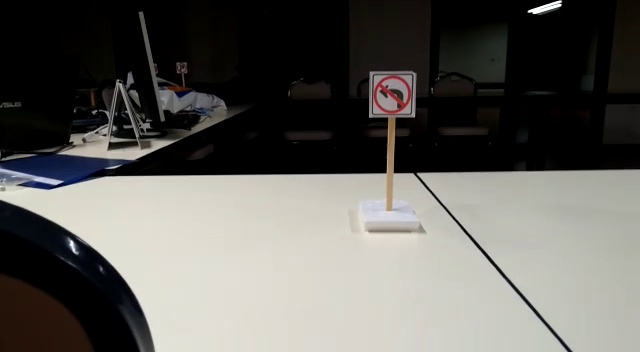sola_donulmez: (373, 74, 413, 114)
